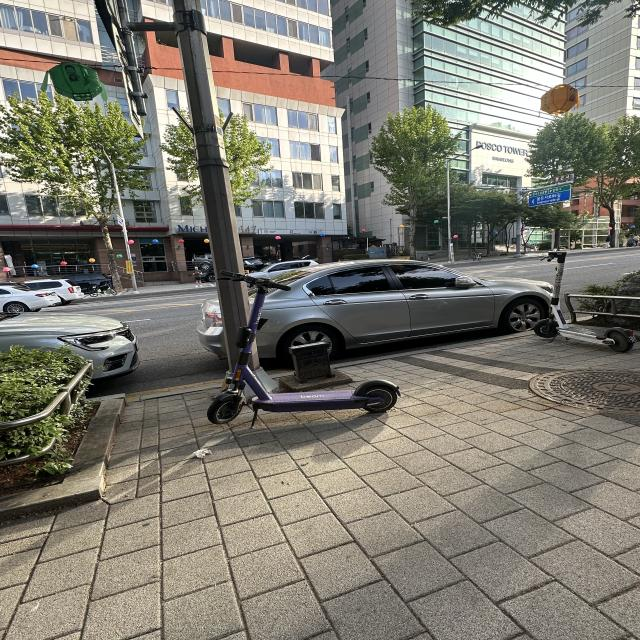kick-board: (207, 271, 400, 424)
road: (52, 289, 228, 396), (562, 248, 640, 292), (455, 258, 555, 282)
sidewalk: (0, 332, 638, 640)
